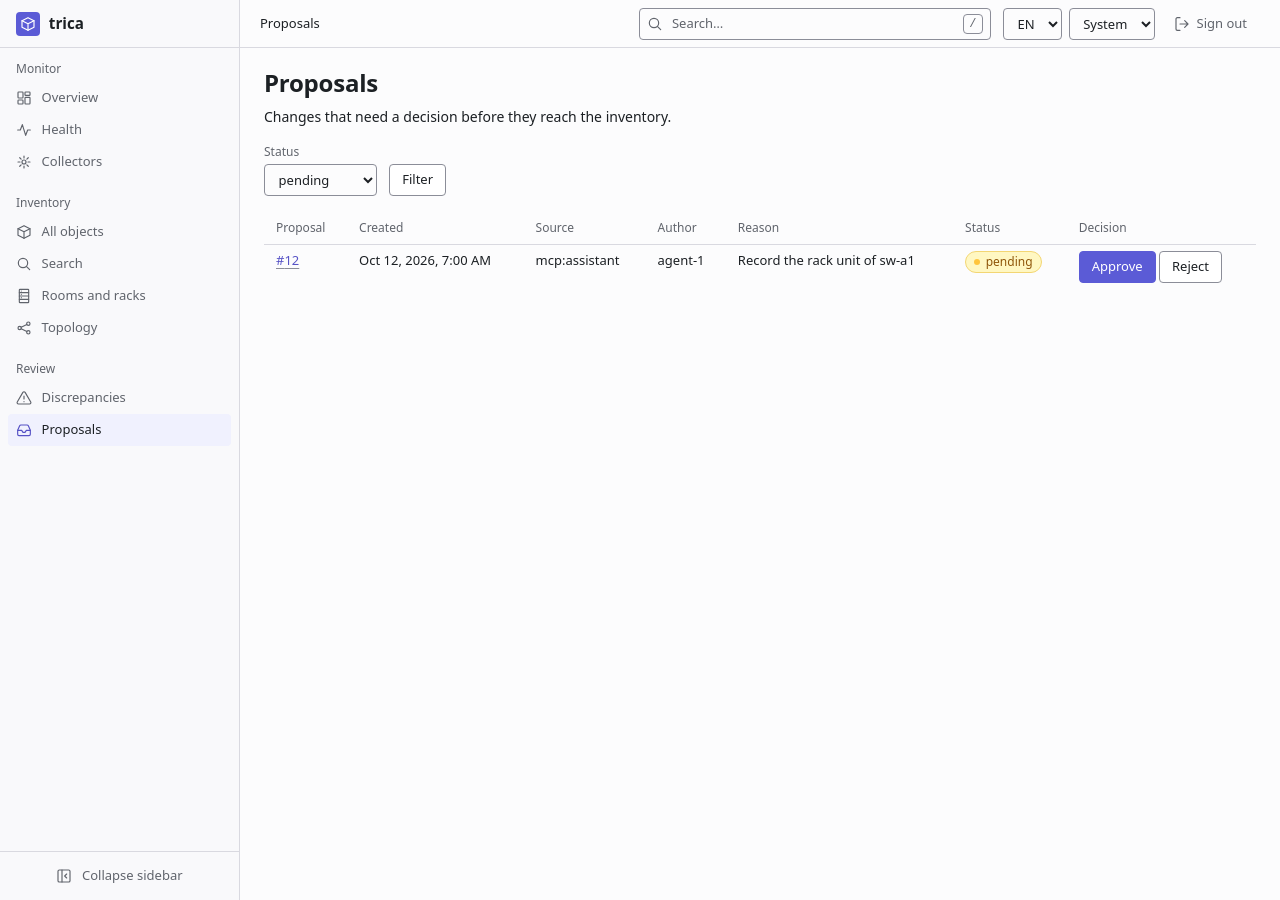
Scenario: deciding › approving asks for confirmation, posts once, tells the result and refreshes the list
Click the button "Approve" at (1117, 267), box x1=1079 y1=251 x2=1156 y2=283
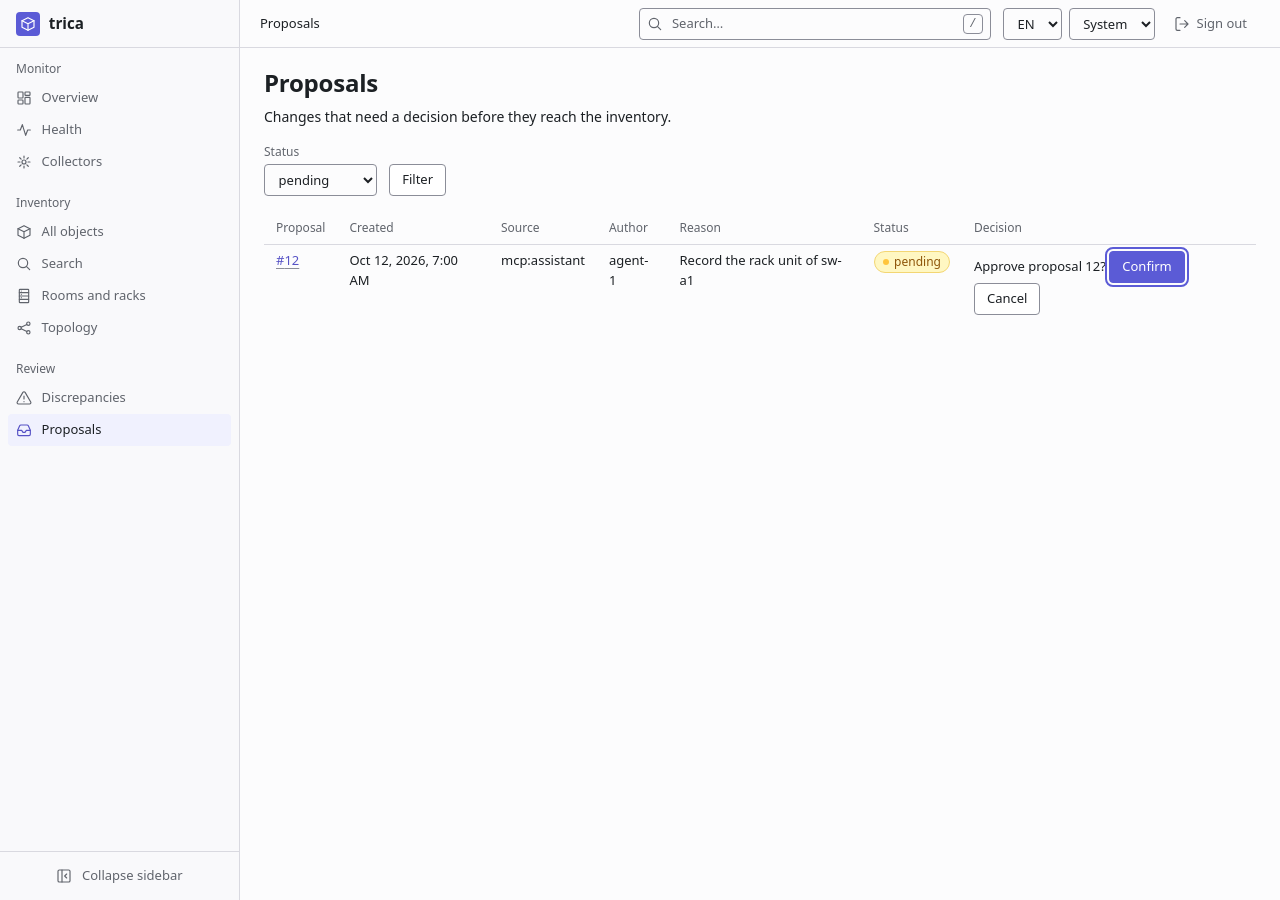
Expected: the element "Approve proposal 12?" is shown, x1=974 y1=251 x2=1185 y2=315
Click the button "Confirm" at (1147, 267), box x1=1109 y1=251 x2=1185 y2=283
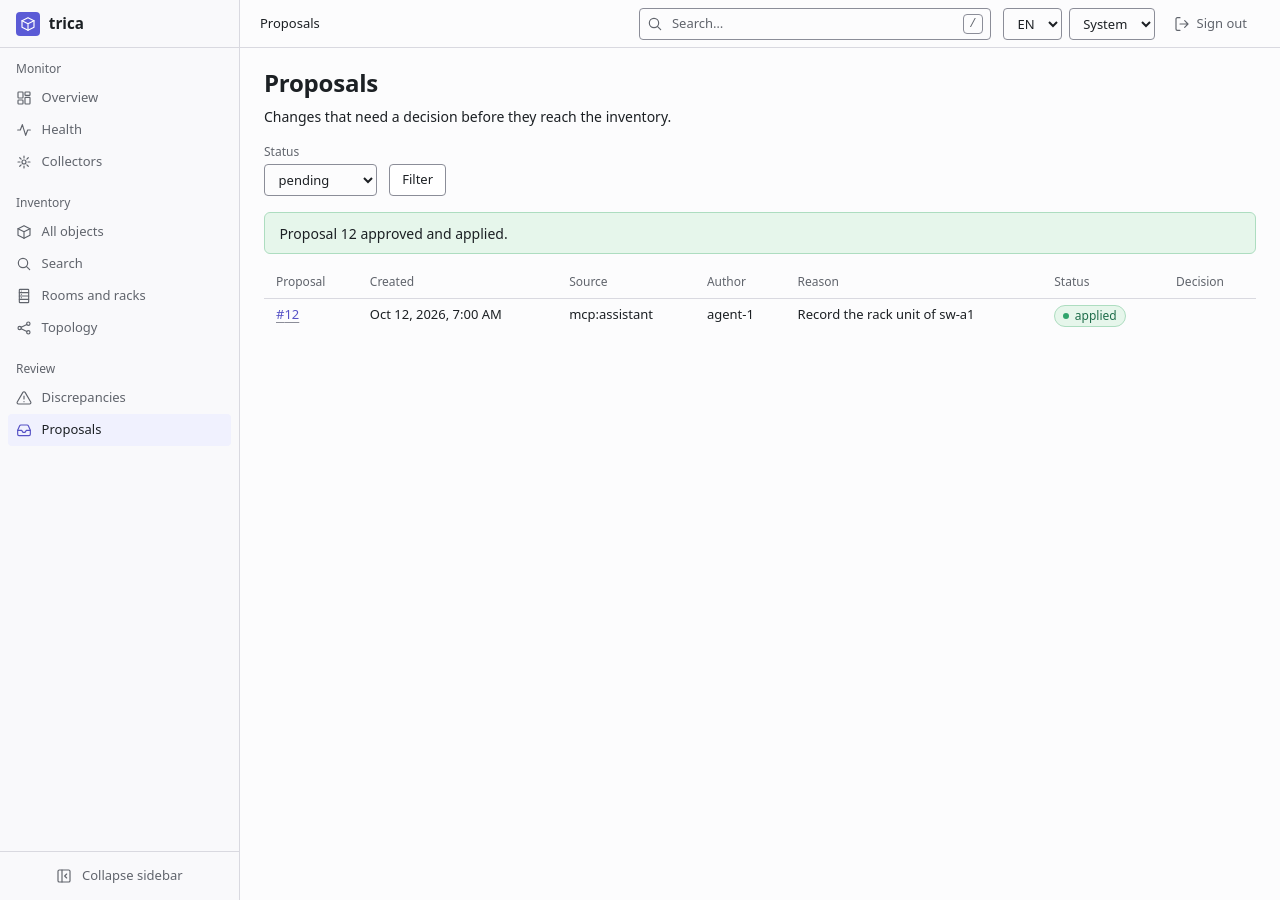
Expected: the text "Proposal 12 approved and applied." is shown, x1=264 y1=212 x2=1256 y2=254
